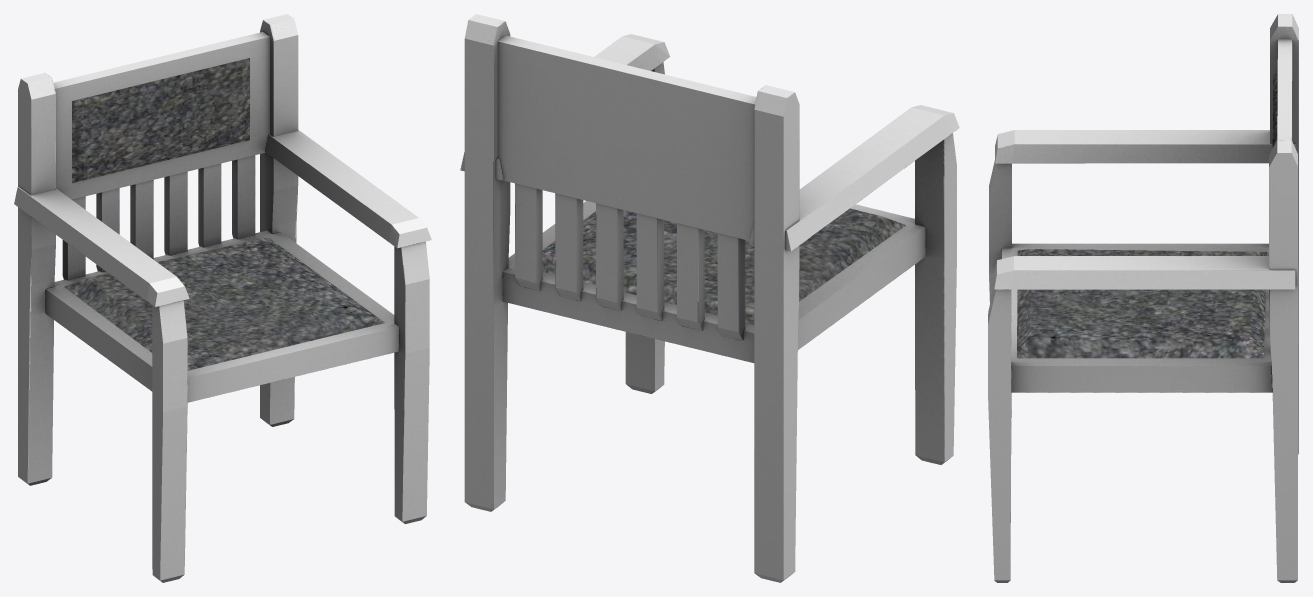
File: chair4.glb
The picture shows the model from 3 angles, left to right: view 1: azimuth 30°, elevation 25°; view 2: azimuth 150°, elevation 25°; view 3: azimuth 270°, elevation 25°; orthographic projection. The views are drawn at different scales.
Parts seen in each view (by area): view 1: Cube.178; view 2: Cube.178; view 3: Cube.178.
Boxes of the visible parts, <box> form: Cube.178: <box>14,14,431,582</box>; Cube.178: <box>460,14,959,582</box>; Cube.178: <box>988,14,1298,582</box>.
Size of the model in its own units: 1.25 by 1.74 by 1.14.
2 materials, 2 textured.
